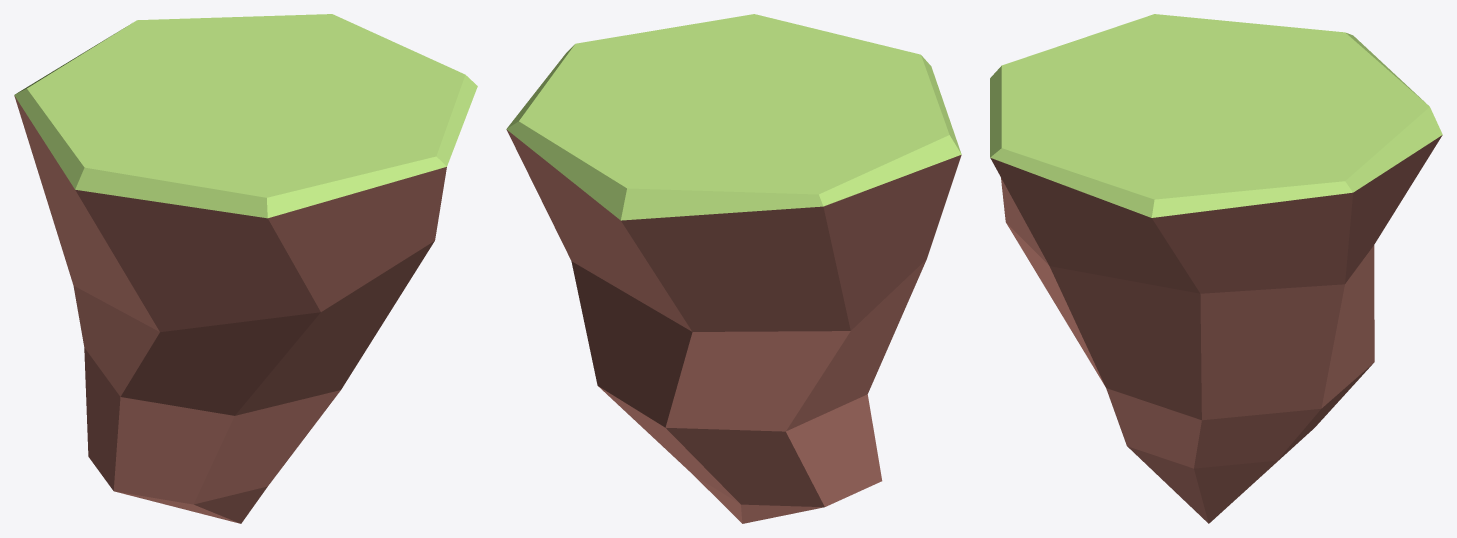
Rendered from Island_Cylinder_014.glb.
The picture shows the model from 3 angles, left to right: view 1: azimuth 30°, elevation 25°; view 2: azimuth 150°, elevation 25°; view 3: azimuth 270°, elevation 25°; orthographic projection.
Visible parts, largest first — view 1: Island_Cylinder.014; view 2: Island_Cylinder.014; view 3: Island_Cylinder.014.
Boxes of the visible parts, x1,y1,x2,y2 form: Island_Cylinder.014: (14,14,477,523); Island_Cylinder.014: (506,14,961,523); Island_Cylinder.014: (990,14,1442,523).
Size of the model in its own units: 2.81 by 2.81 by 2.74.
